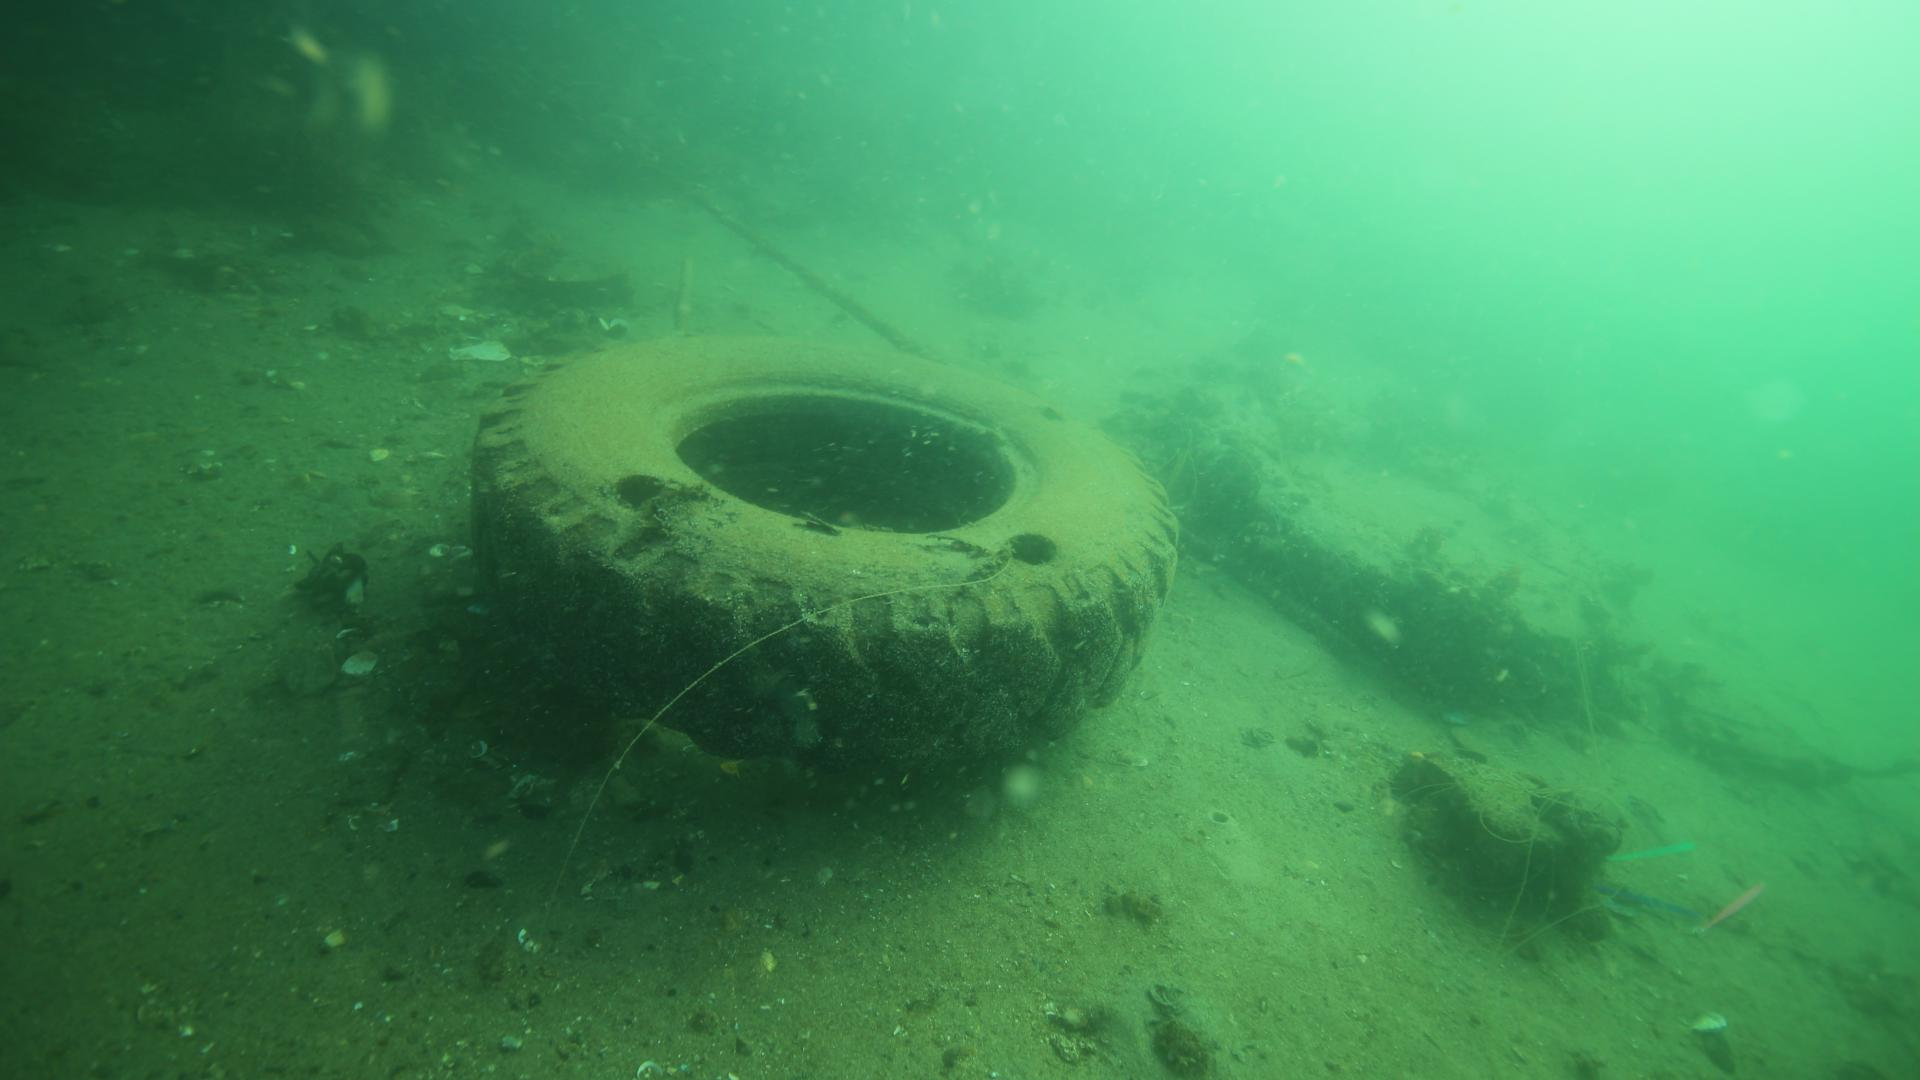tire: (481, 334, 1180, 783)
